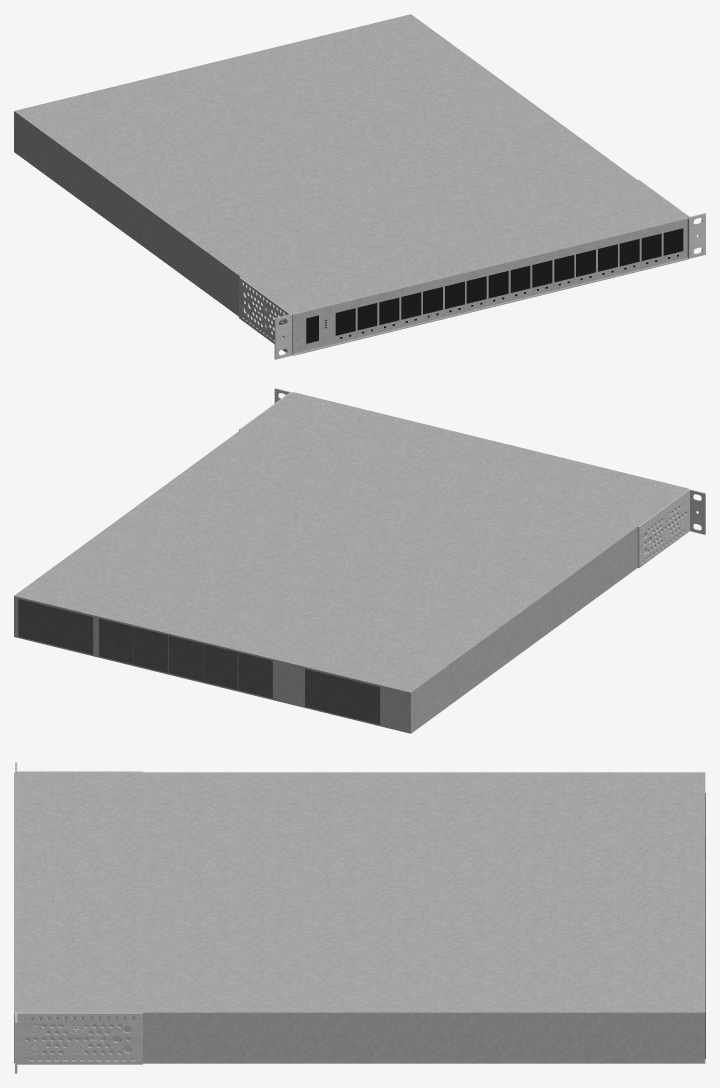
The model's file is C9500-32C.far.glb.
3 renders of one model, top to bottom at view 1: azimuth 30°, elevation 25°; view 2: azimuth 150°, elevation 25°; view 3: azimuth 270°, elevation 25°, orthographic. The views are drawn at different scales.
Visible parts, largest first — view 1: Rack_Ears_far; view 2: Rack_Ears_far, empty:PS-1, empty:PS-0, empty:FAN 2, empty:FAN 3, empty:FAN 0, empty:FAN 1, empty:FAN 4; view 3: Rack_Ears_far.
Part boxes in pixels (x1,y1,x2,y2): Rack_Ears_far: (14,14,705,359); Rack_Ears_far: (14,388,705,733); empty:PS-1: (18,598,93,654); empty:PS-0: (305,668,380,724); empty:FAN 2: (168,635,203,681); empty:FAN 3: (133,626,168,672); empty:FAN 0: (238,652,272,698); empty:FAN 1: (203,643,237,689); empty:FAN 4: (99,618,133,664); Rack_Ears_far: (14,762,705,1073).
Size of the model in its own units: 0.4826 by 0.044 by 0.5415.
Materials: 6 (5 with a texture image).
